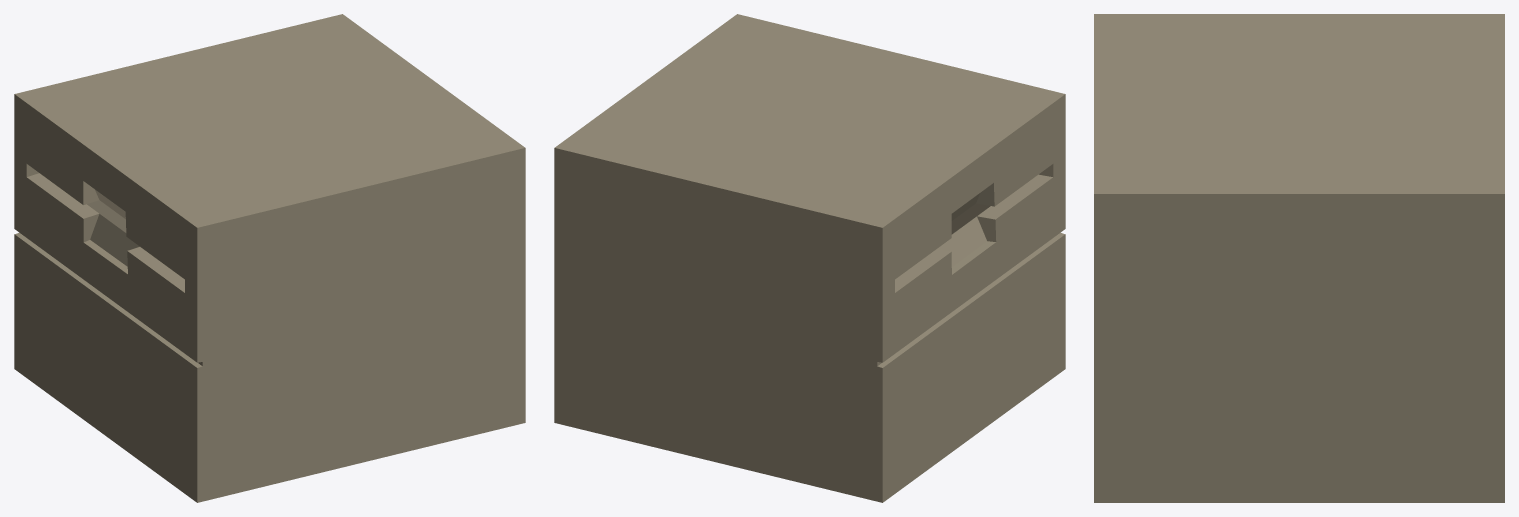
Rendered from flopy.obj.
The picture shows the model from 3 angles, left to right: view 1: azimuth 30°, elevation 25°; view 2: azimuth 150°, elevation 25°; view 3: azimuth 270°, elevation 25°; orthographic projection. The views are drawn at different scales.
Size of the model in its own units: 0.00812 by 0.0065 by 0.00784.
